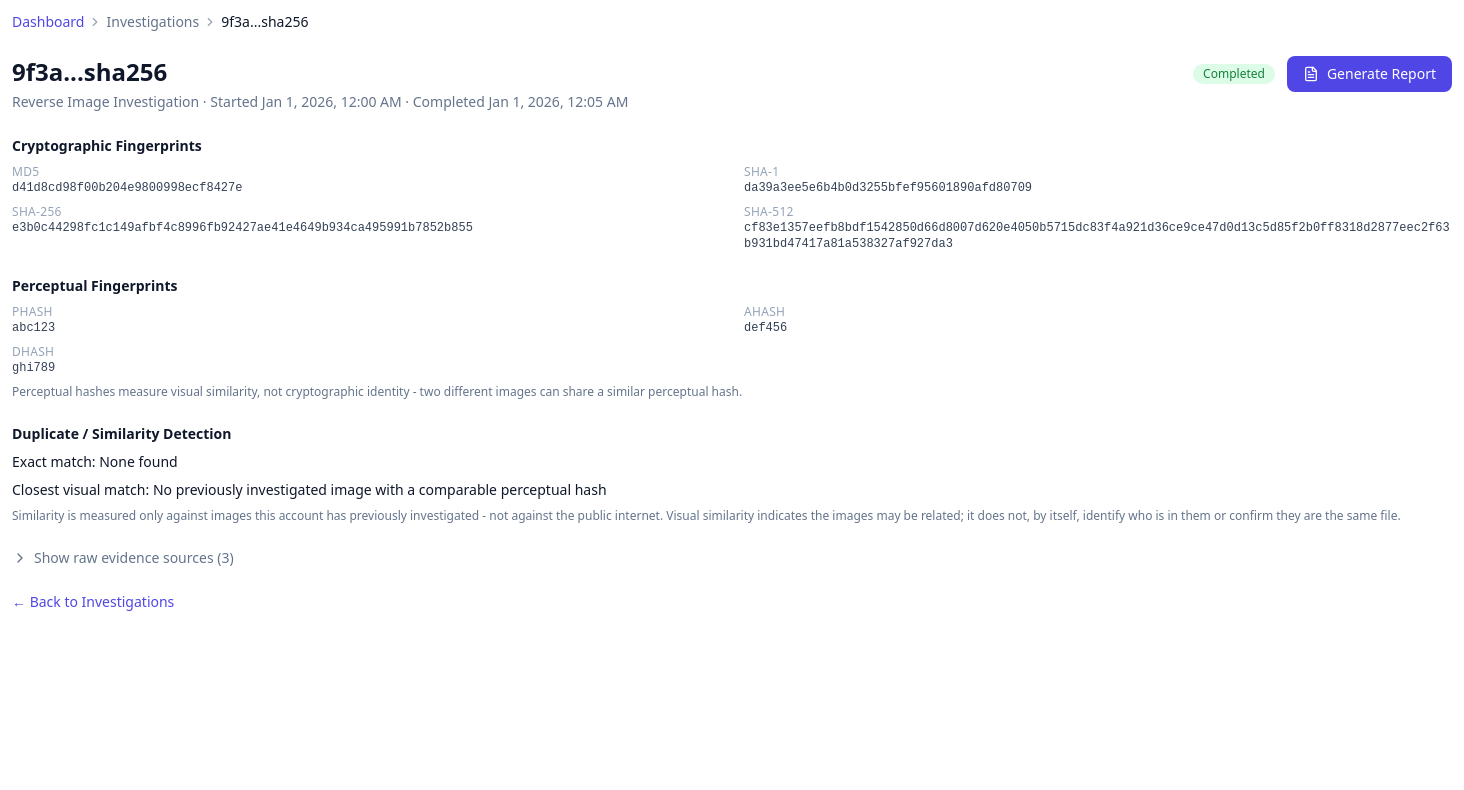
Test: InvestigationDetailPage › renders the Reverse Image dedicated renderer plus the full evidence list (behind the raw-evidence toggle)
Check: the heading "Cryptographic Fingerprints" is shown, box [12,136,202,155]
Check: the text "d41d8cd98f00b204e9800998ecf8427e" is shown, box [12,181,242,195]
Step 1. Click the button "Show raw evidence sources (3)" → (123, 558), box [12,548,234,568]
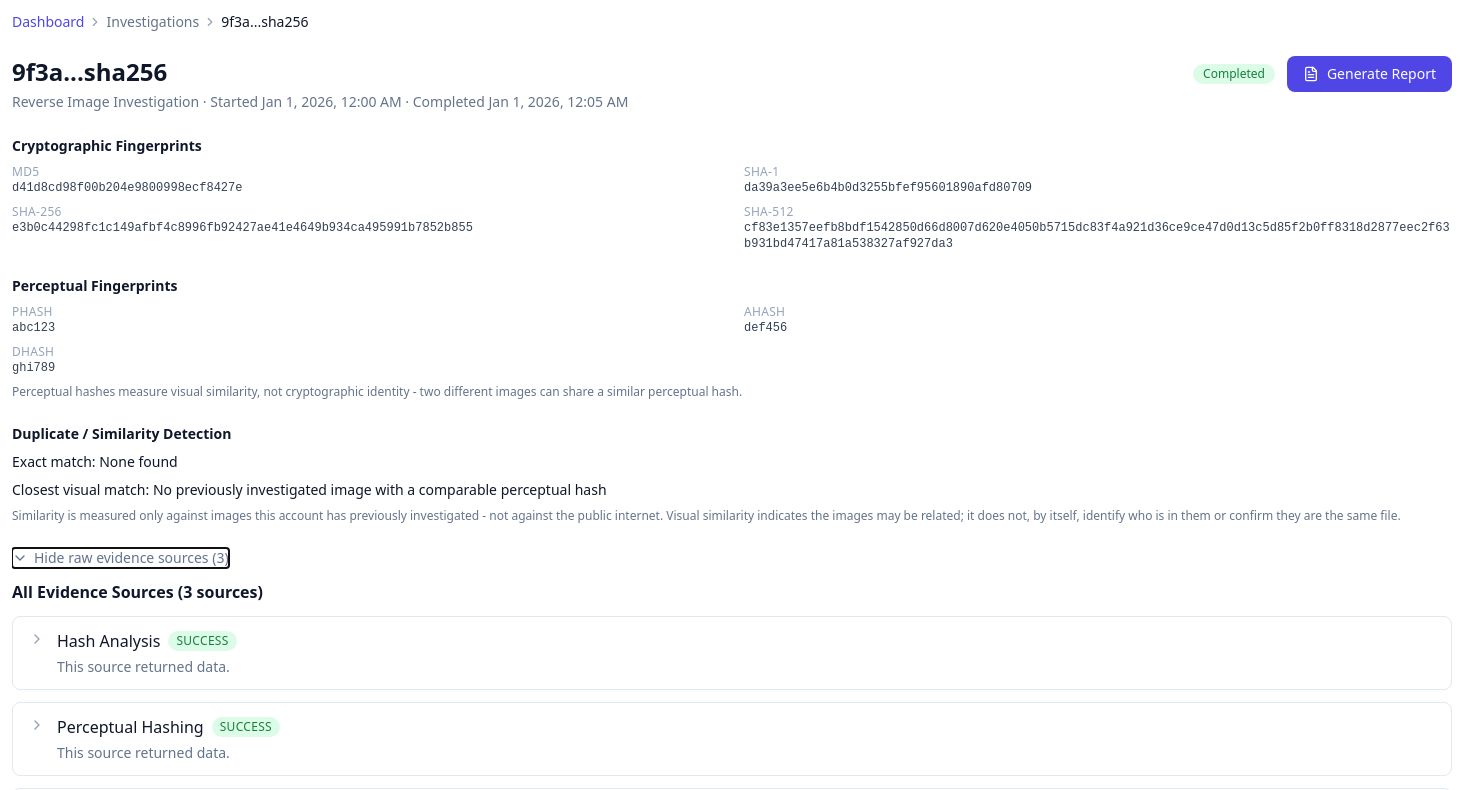
Check: the heading "All Evidence Sources (3 sources)" is shown, box [12,581,263,603]
